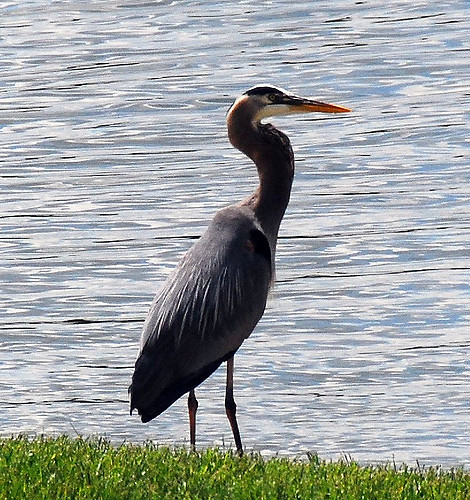heron: (125, 75, 353, 442)
